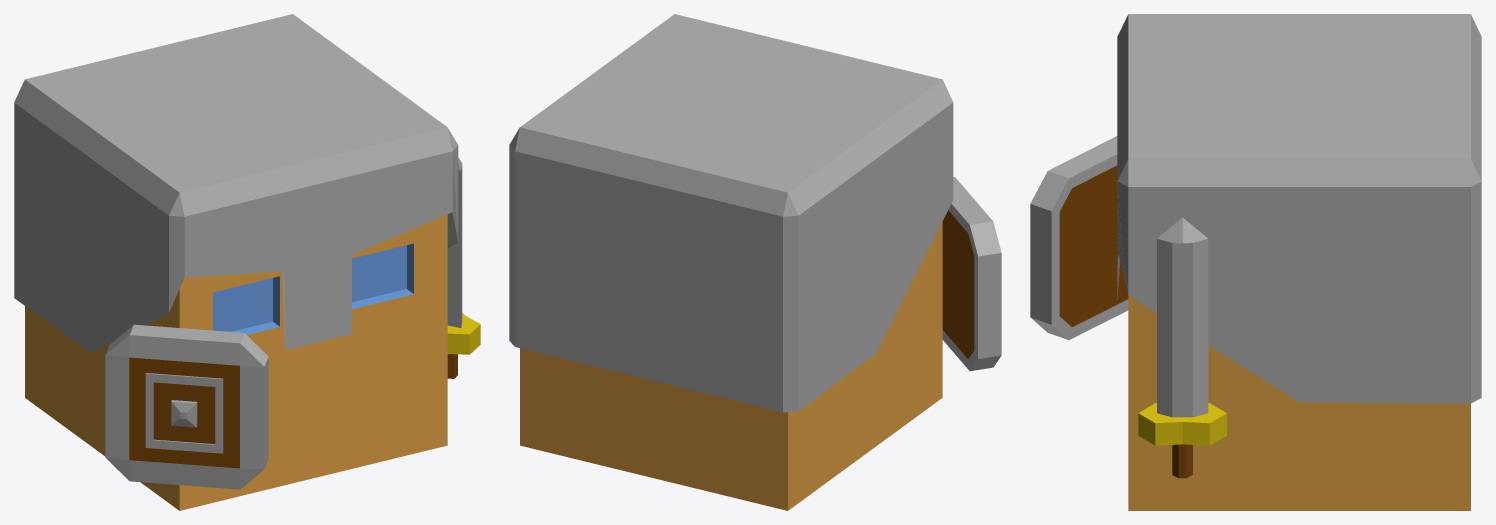
The model's file is knight.fbx.
3 views of the same model, side by side, from view 1: azimuth 30°, elevation 25°; view 2: azimuth 150°, elevation 25°; view 3: azimuth 270°, elevation 25° (orthographic). The views are drawn at different scales.
Parts seen in each view (by area): view 1: Cube, Shield, Sword; view 2: Cube, Shield; view 3: Cube, Shield, Sword.
Part boxes in pixels (x1=…): Cube: x1=14, y1=14, x2=458, y2=510; Shield: x1=105, y1=324, x2=268, y2=489; Sword: x1=447, y1=157, x2=480, y2=378; Cube: x1=509, y1=14, x2=953, y2=510; Shield: x1=942, y1=176, x2=1001, y2=370; Cube: x1=1117, y1=14, x2=1481, y2=510; Shield: x1=1030, y1=136, x2=1128, y2=339; Sword: x1=1138, y1=217, x2=1226, y2=478.
Size of the model in its own units: 284 by 227 by 264.
